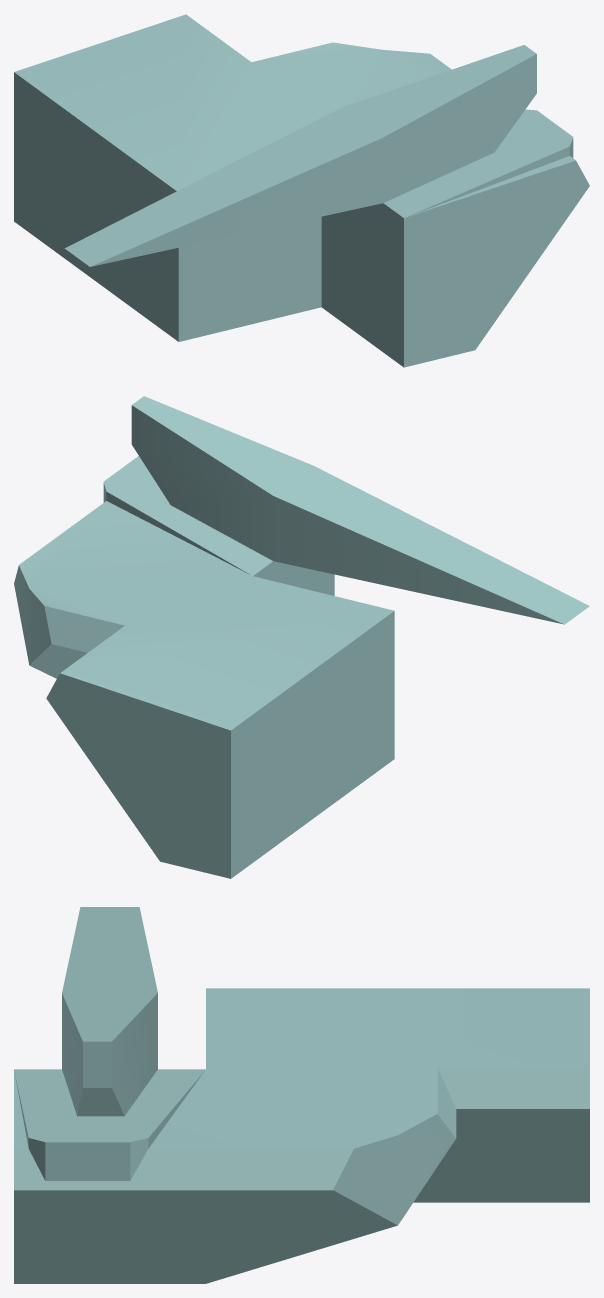
The model's file is x_kray_obriv_blue_16_1_mirror.fbx.
3 views of the same model, one above another, from view 1: azimuth 30°, elevation 25°; view 2: azimuth 150°, elevation 25°; view 3: azimuth 270°, elevation 25° (orthographic). The views are drawn at different scales.
Visible parts, largest first — view 1: x_kray_obriv_blue_16_1_mirror1; view 2: x_kray_obriv_blue_16_1_mirror1; view 3: x_kray_obriv_blue_16_1_mirror1.
Boxes of the visible parts, bbox=[...] form: x_kray_obriv_blue_16_1_mirror1: bbox=[14, 14, 589, 367]; x_kray_obriv_blue_16_1_mirror1: bbox=[14, 396, 589, 878]; x_kray_obriv_blue_16_1_mirror1: bbox=[14, 907, 589, 1283].
Size of the model in its own units: 3.3 by 1.69 by 3.
